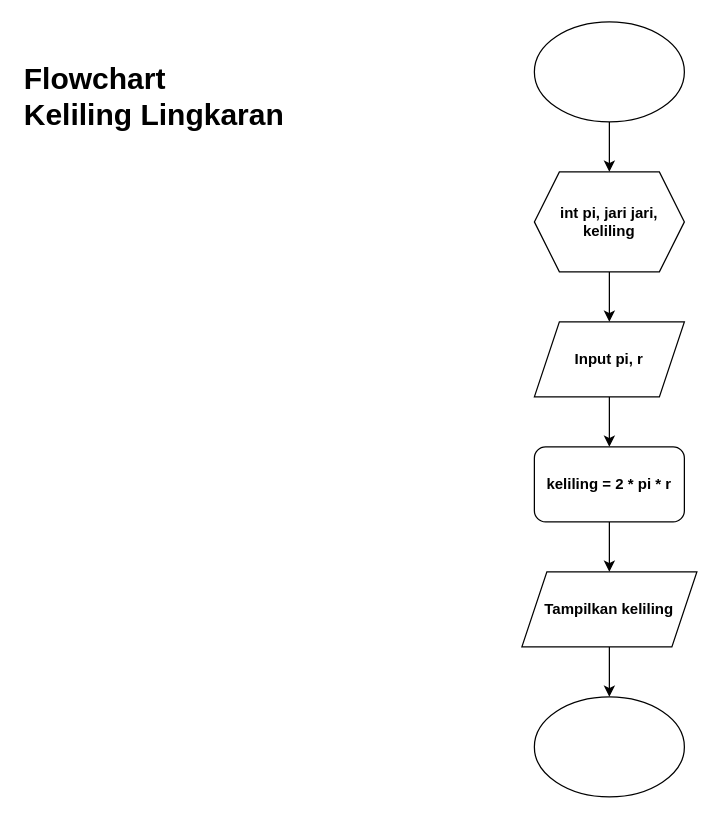
This 719x819 diagram has some shape labels left out. Here are the shapes that lost their labels. From the top down, the centre of each, then its label:
the point at 608,71: Mulai
the point at 608,746: Selesai
